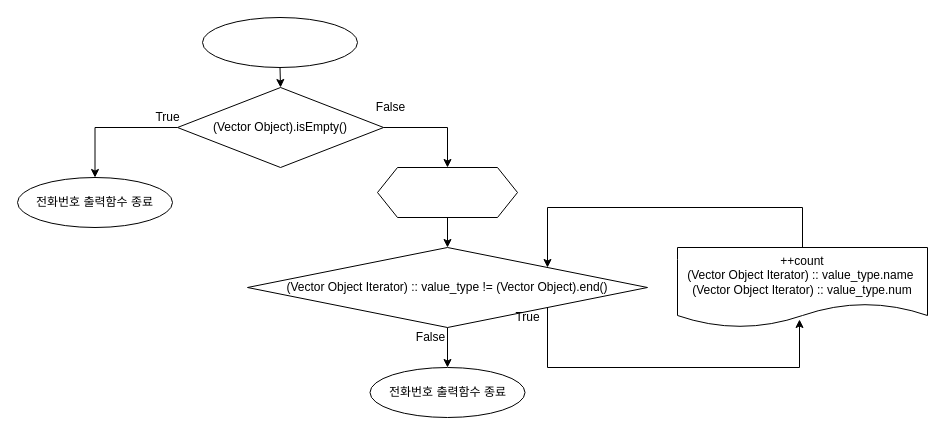
Image size: 945x435. Some labels were removed from this diagram. The shapes that lost their labels are listed below. From the top down, each one's centre as x and y in pixels, then its label:
At (280,42): "전화번호 출력함수 호출".
At (447,192): "int count = 0".
